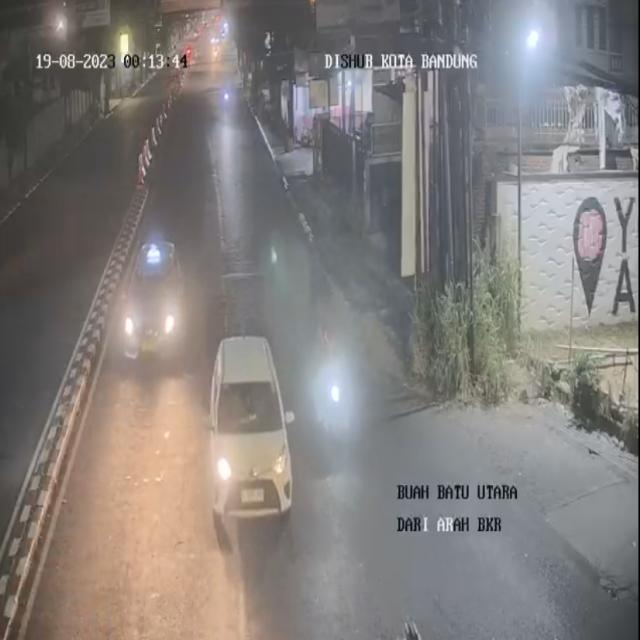cars: (201, 325, 302, 532), (128, 232, 190, 373)
motorcycle: (315, 323, 356, 449)
